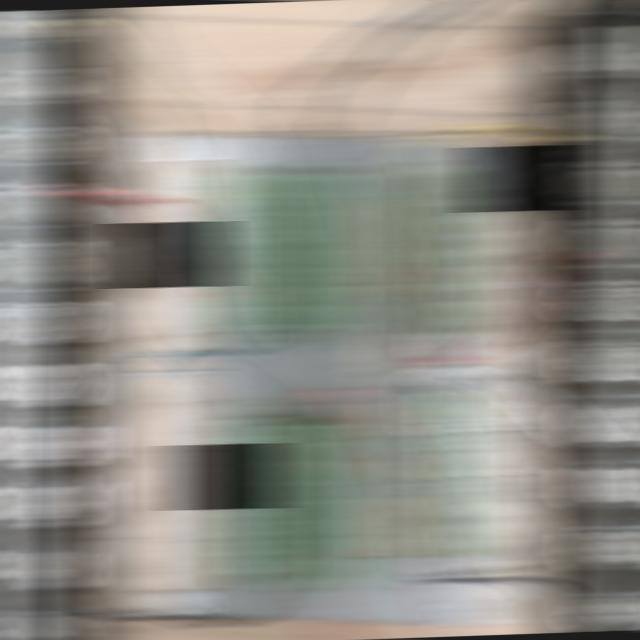Terminal_1: (418, 391, 479, 560), (411, 170, 473, 335)
Terminal_2: (313, 422, 374, 584), (265, 423, 325, 584), (310, 172, 371, 328), (212, 173, 269, 329), (262, 173, 319, 328)
